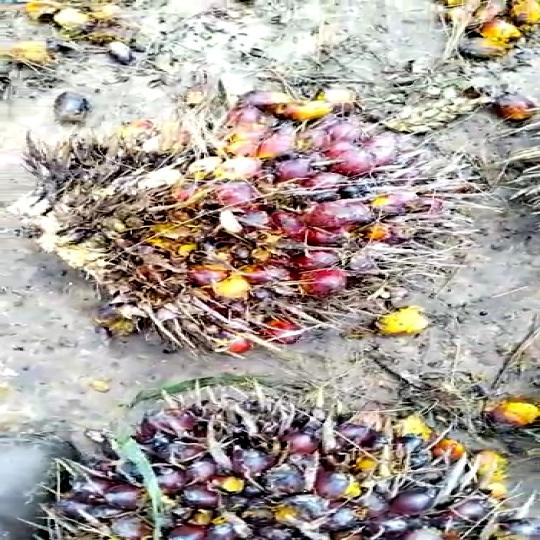masak: (19, 104, 482, 354)
